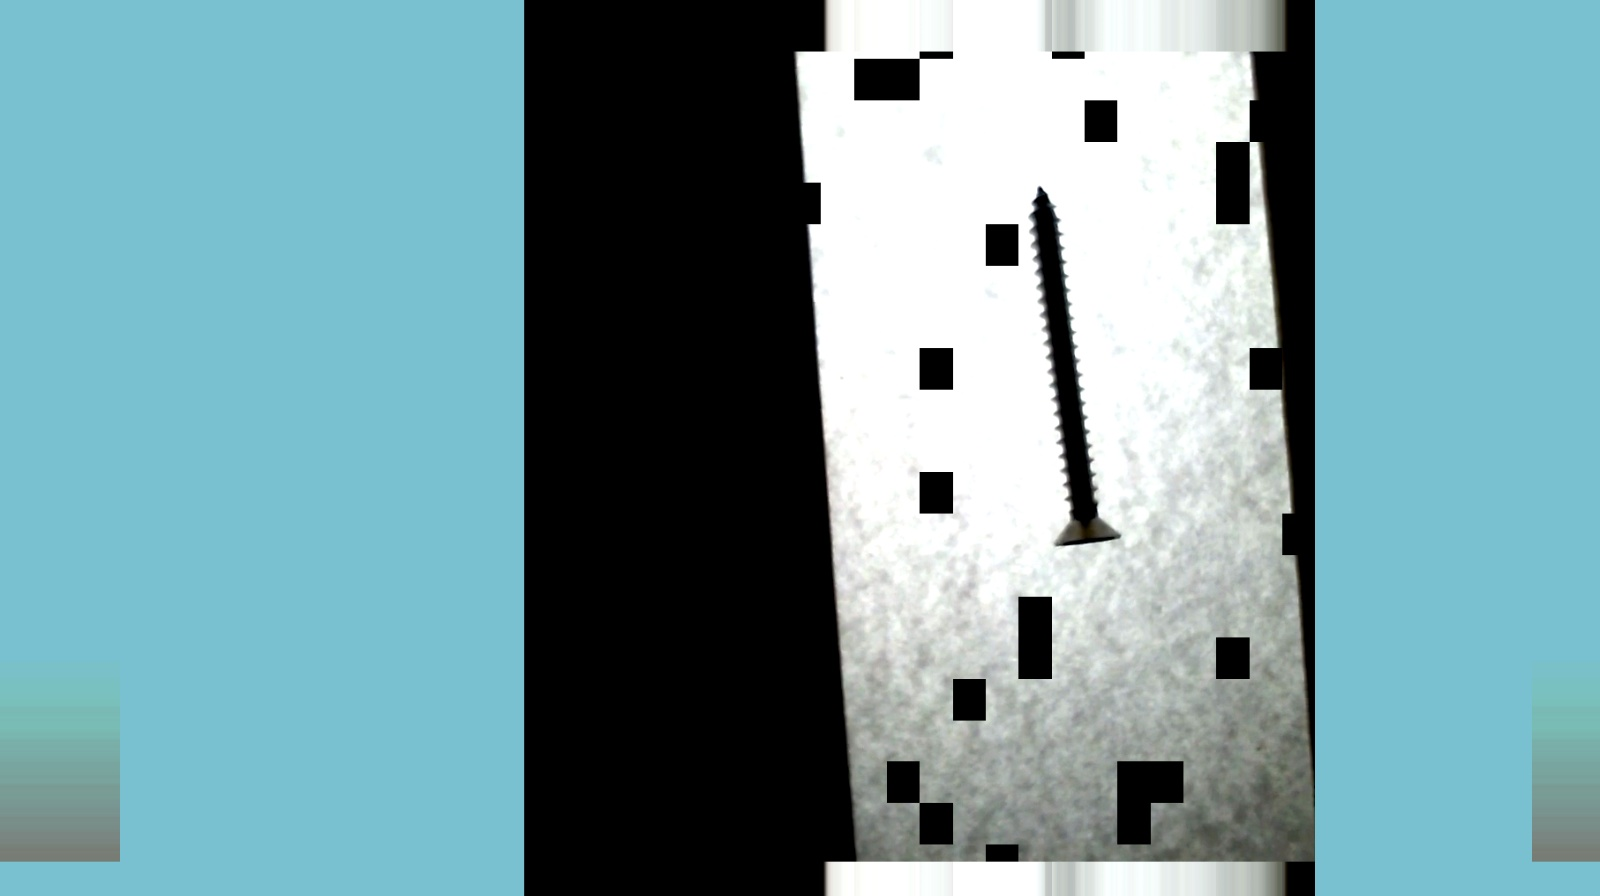S002: (1012, 166, 1129, 563)
